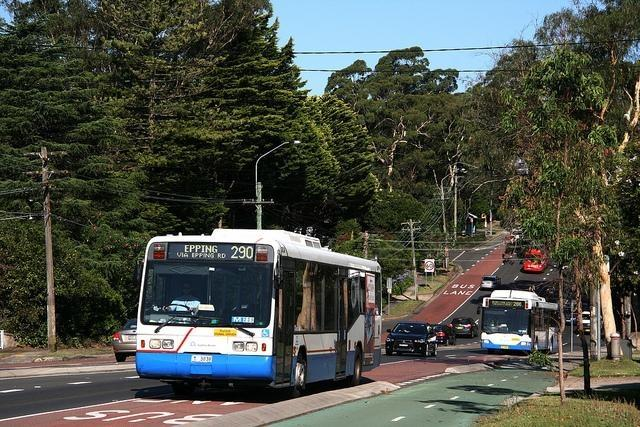bus: (136, 229, 381, 396), (482, 290, 562, 355), (523, 248, 549, 274)
car: (386, 322, 438, 356), (112, 318, 138, 362), (449, 317, 479, 338), (429, 324, 457, 346), (481, 275, 502, 289)
